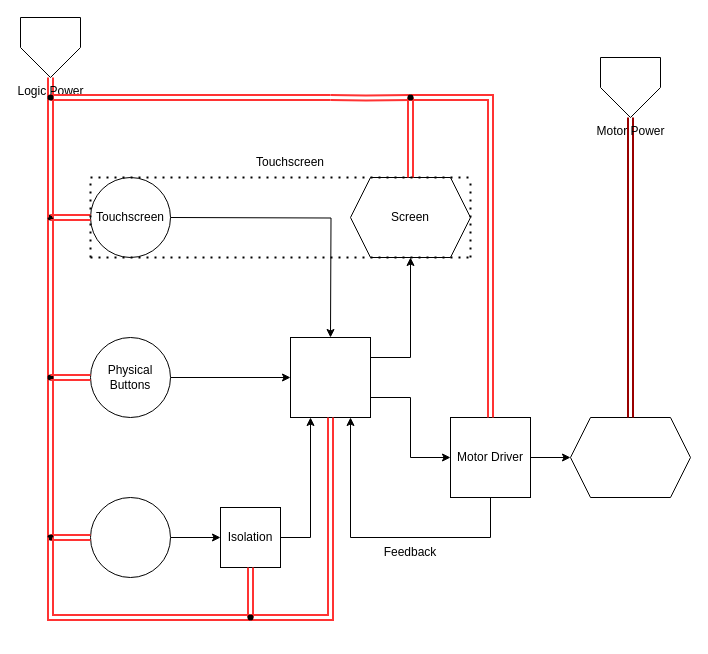
Some shapes in this 708 by 654 pixel diagram are drawn without their labels. The box of each missing label's shape, as (x1, y1, x2, y2) in pixels:
MCU: (290, 336, 370, 418)
Motor: (570, 416, 690, 498)
User Input Modulation: (90, 496, 170, 578)
